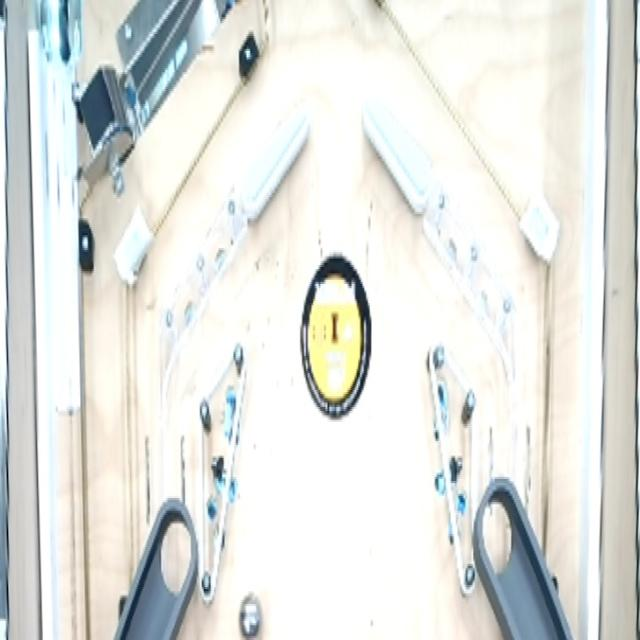ball: (236, 590, 267, 640)
flipper-left: (360, 95, 437, 230)
flipper-right: (238, 106, 314, 226)
